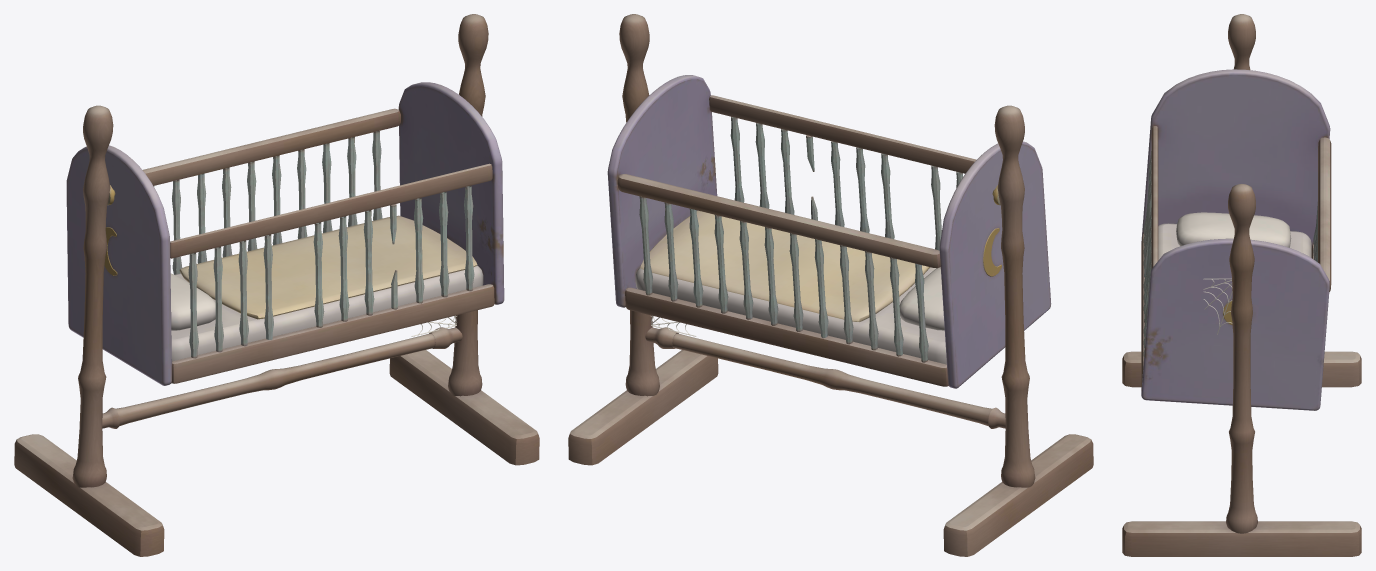
File: old-cradle.glb
3 renders of one model, left to right at view 1: azimuth 30°, elevation 25°; view 2: azimuth 150°, elevation 25°; view 3: azimuth 270°, elevation 25°, orthographic. The views are drawn at different scales.
Parts seen in each view (by area): view 1: old-cradle_cradle, old-cradle_body; view 2: old-cradle_cradle, old-cradle_body; view 3: old-cradle_cradle, old-cradle_body, old-cradle_web.
Part boxes in pixels (x1,y1,x2,y2): old-cradle_cradle: (66, 82, 504, 385); old-cradle_body: (14, 14, 539, 556); old-cradle_cradle: (607, 75, 1051, 388); old-cradle_body: (568, 14, 1093, 556); old-cradle_cradle: (1141, 69, 1331, 410); old-cradle_body: (1122, 14, 1361, 556); old-cradle_web: (1203, 278, 1232, 334).
Bounding box in the file's own units: 1.03 × 0.955 × 0.56.
Materials: 3 (2 with a texture image).
